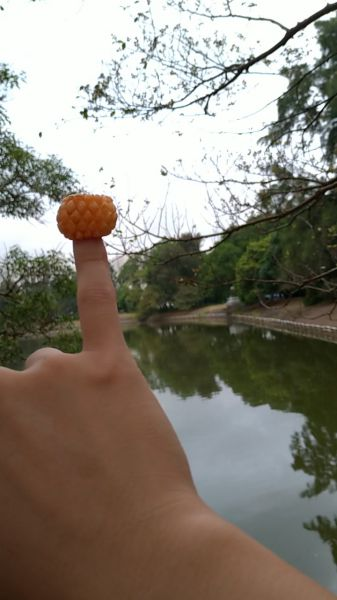eggs: (56, 193, 117, 240)
